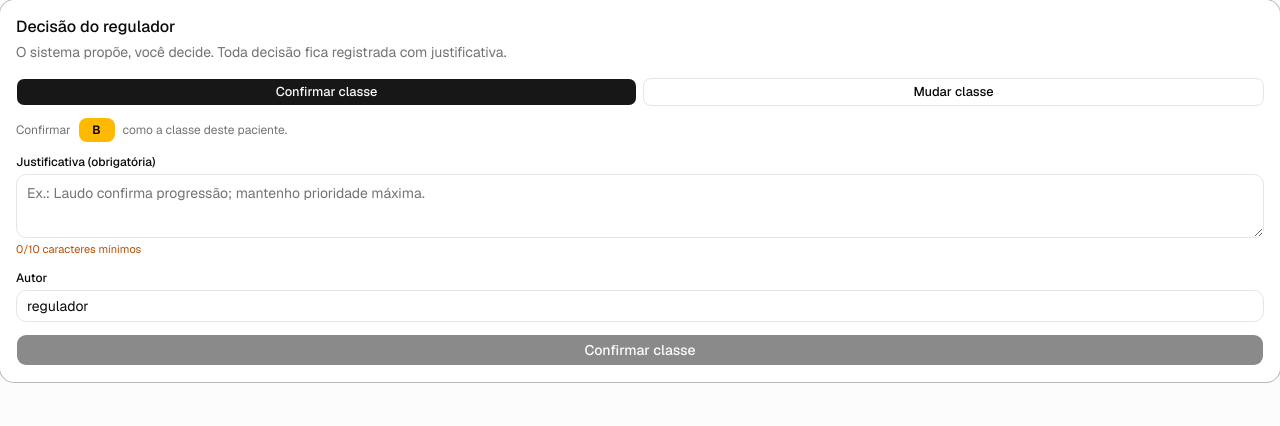
Test: PainelDecisao: mudar classe › exige escolher uma classe antes de enviar
Click the button "Mudar classe" at (954, 92), box [643,78,1264,106]
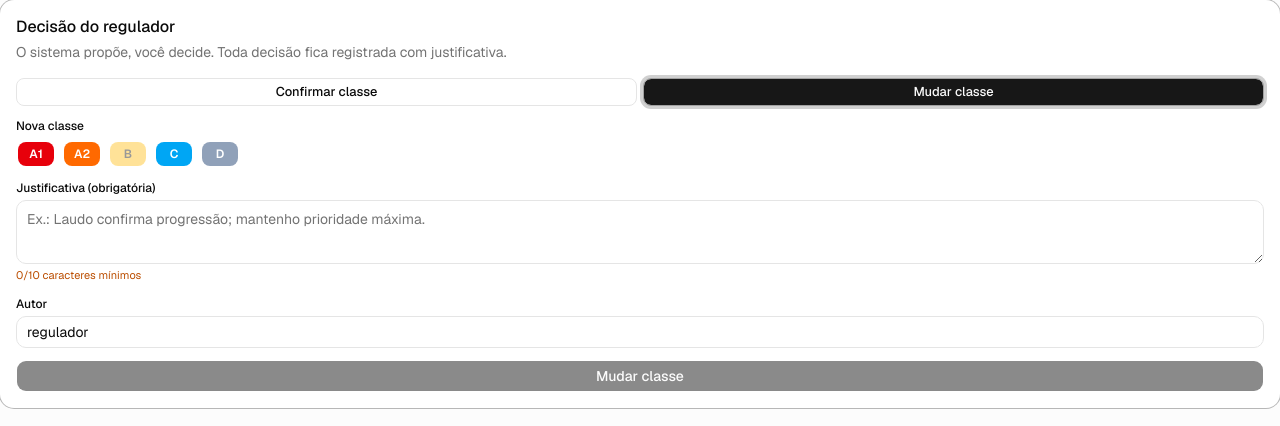
Type "Laudo confirma progressão." into the text box labelled "Justificativa (obrigatória) 0/10 caracteres mínimos" at (640, 232), box [16,200,1264,264]
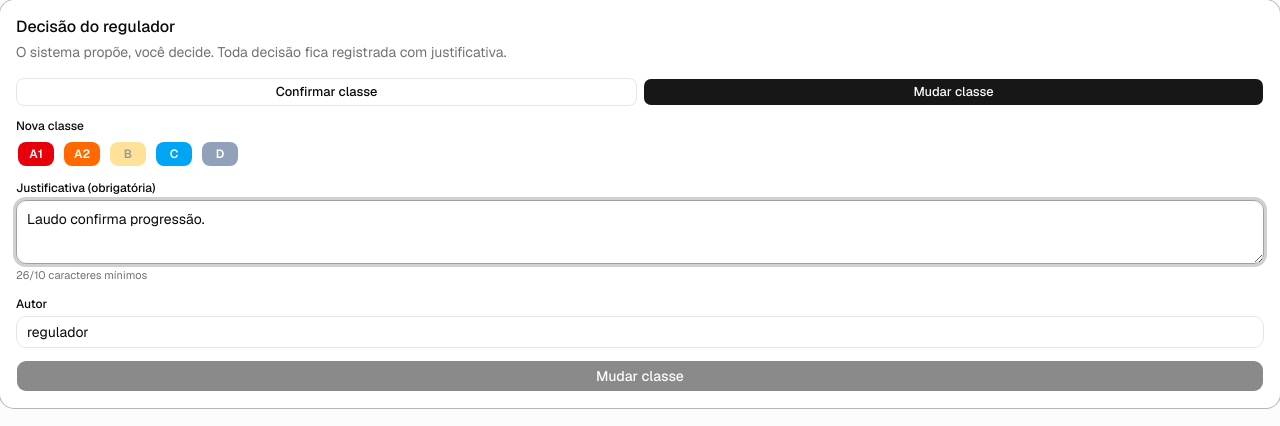
Expected: the 2nd button "Mudar classe" is disabled, [16,360,1264,392]
Click the button "A1" at (36, 154), box [16,140,56,168]
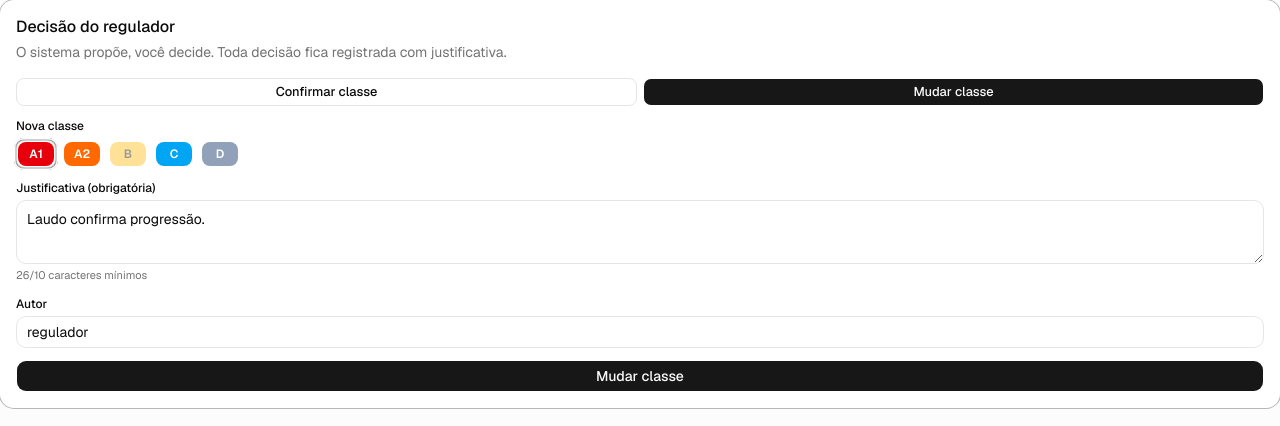
Expected: the 2nd button "Mudar classe" is enabled, [16,360,1264,392]
